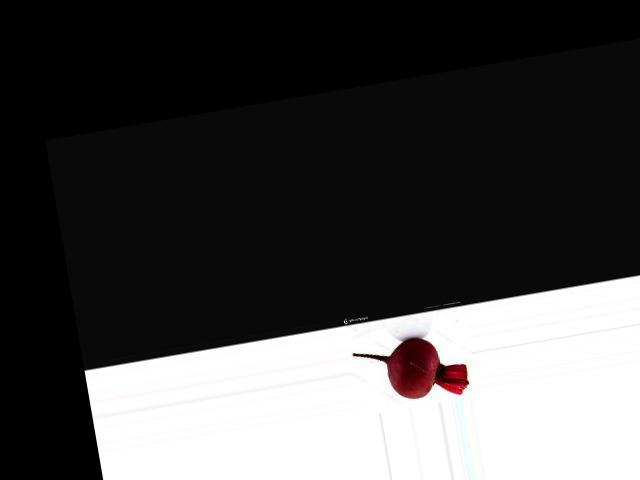beet: (352, 330, 471, 410)
